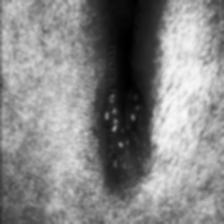Toxin: (118, 77, 148, 183)
